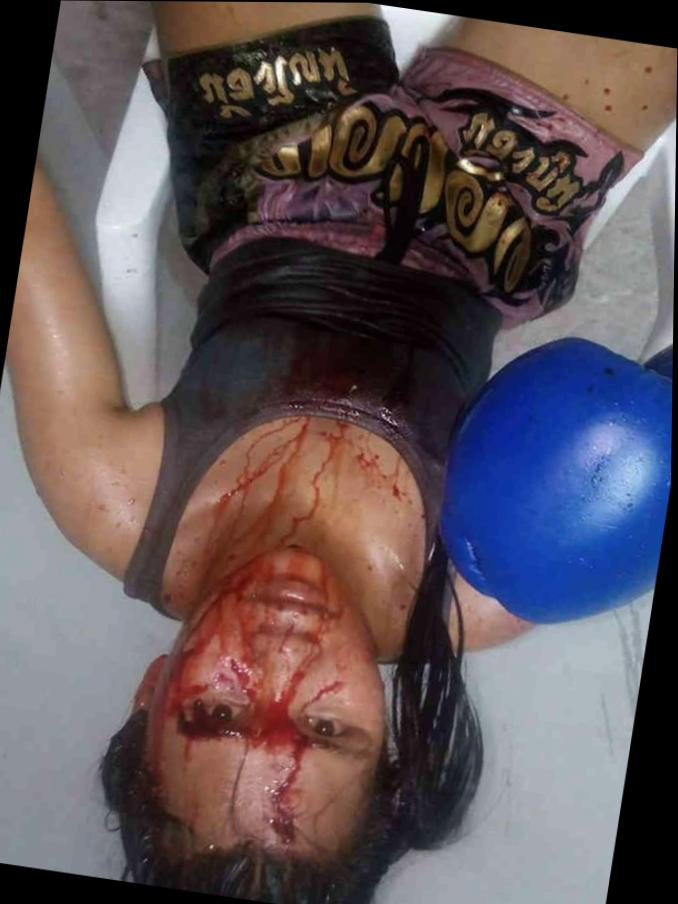Fire: (137, 416, 407, 849)
